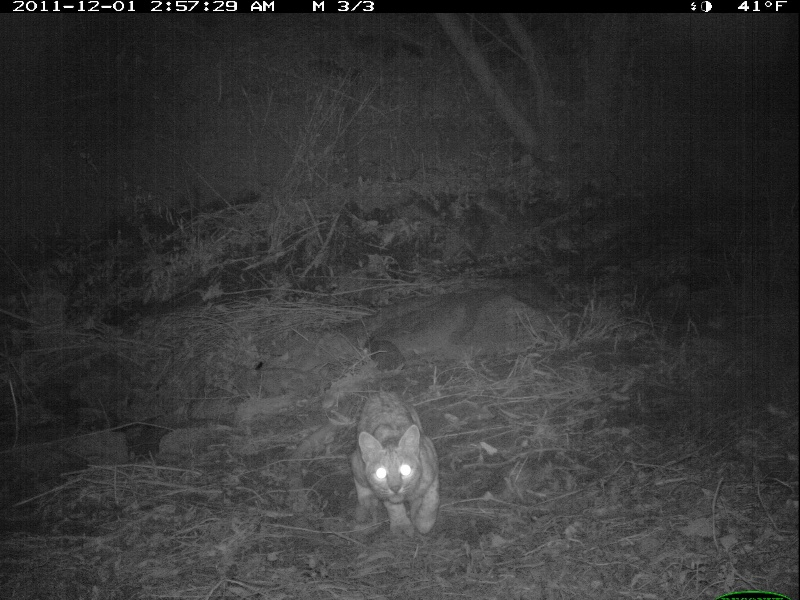cat: (350, 390, 440, 535)
